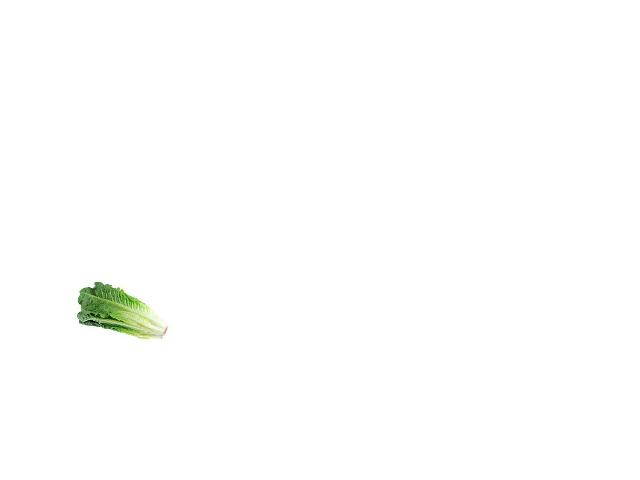lettuce: (74, 283, 172, 342)
